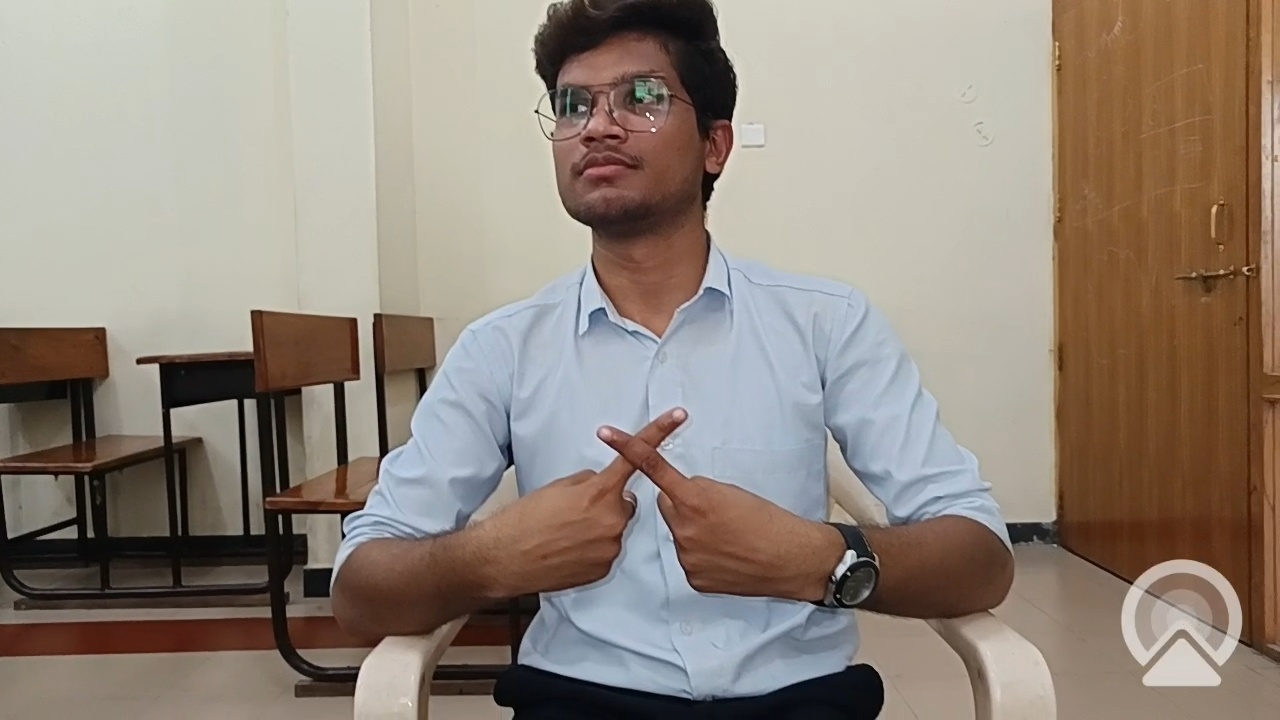X: (465, 362, 784, 632)
